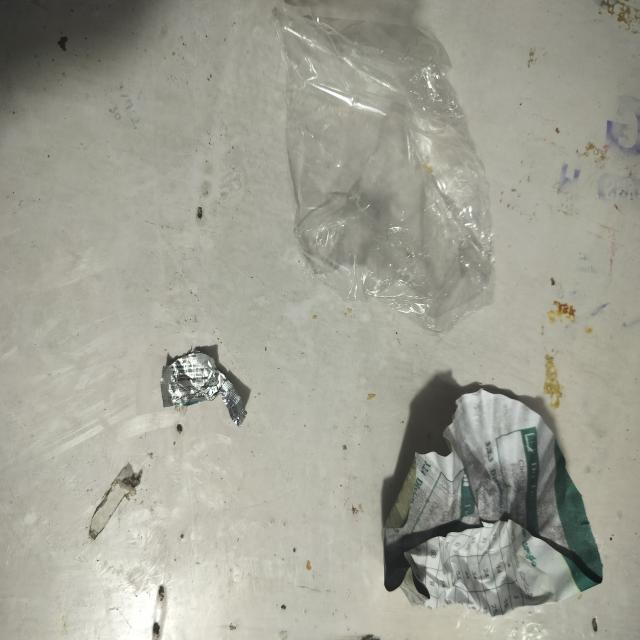metal: (147, 340, 260, 430)
paper: (376, 378, 616, 622)
plastic: (253, 3, 519, 323)
